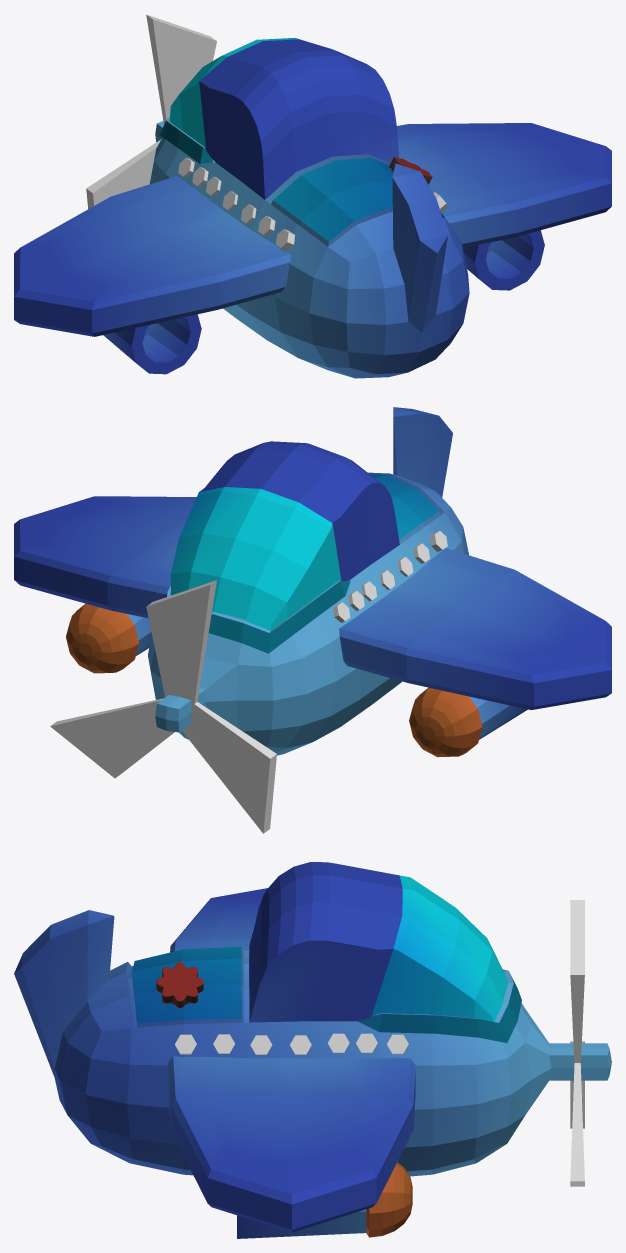
Rendered from самолет 1.fbx.
The picture shows the model from 3 angles, top to bottom: view 1: azimuth 30°, elevation 25°; view 2: azimuth 150°, elevation 25°; view 3: azimuth 270°, elevation 25°; orthographic projection. The views are drawn at different scales.
Parts seen in each view (by area): view 1: Cube, Cube.001, Cylinder.001, Cube.002, Cylinder.007; view 2: Cube, Cube.001, Cube.002, Cylinder.001, Cylinder.007; view 3: Cube, Cube.001, Cylinder.001, Cube.002, Cylinder.007, Cylinder.
Part boxes in pixels (left/top/right/bottom): Cube: left=150, top=38, right=469, bottom=378; Cube.001: left=14, top=123, right=611, bottom=336; Cylinder.001: left=103, top=230, right=544, bottom=374; Cube.002: left=86, top=14, right=216, bottom=208; Cylinder.007: left=178, top=157, right=447, bottom=250; Cube: left=148, top=407, right=468, bottom=755; Cube.001: left=14, top=496, right=611, bottom=709; Cube.002: left=50, top=580, right=276, bottom=833; Cylinder.001: left=66, top=603, right=527, bottom=757; Cylinder.007: left=333, top=531, right=447, bottom=622; Cube: left=14, top=862, right=611, bottom=1176; Cube.001: left=168, top=888, right=415, bottom=1232; Cylinder.001: left=237, top=1162, right=412, bottom=1238; Cube.002: left=570, top=900, right=584, bottom=1186; Cylinder.007: left=175, top=1033, right=408, bottom=1054; Cylinder: left=156, top=962, right=203, bottom=1008.
Bounding box in the file's own units: 592 × 261 × 472.
